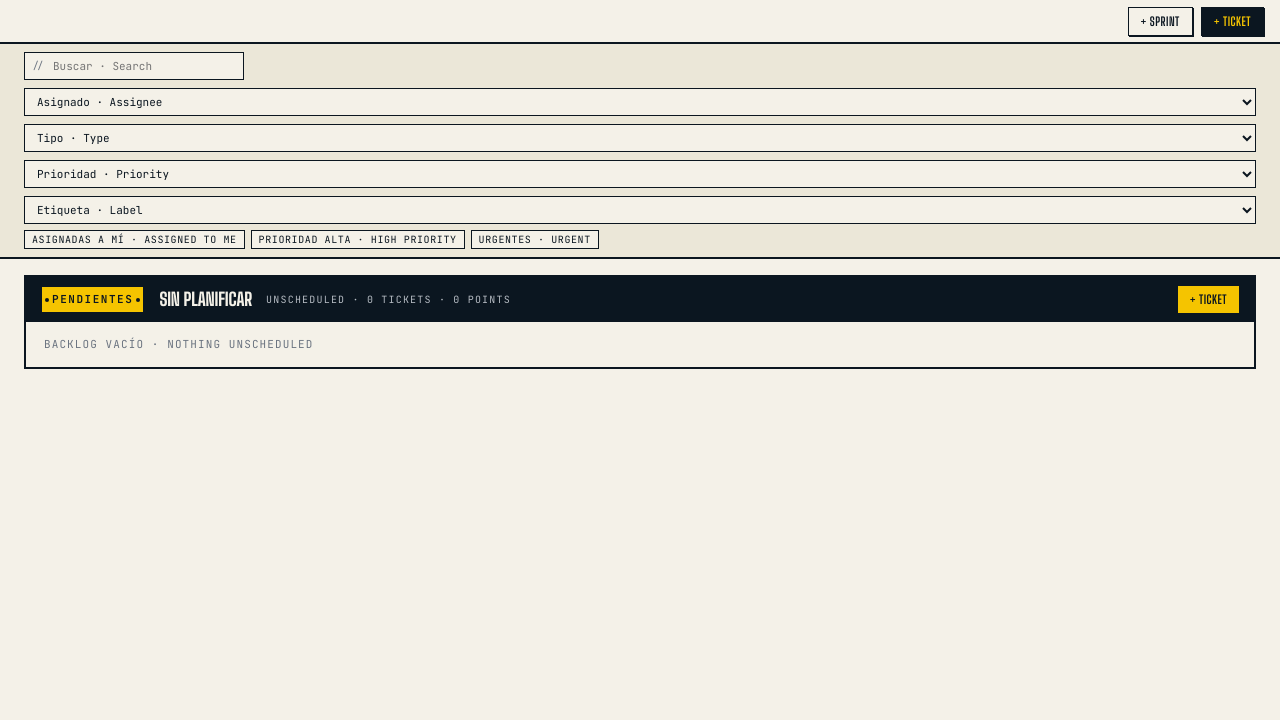
Test case: BacklogPage › closes the Create Sprint modal when the scrim is clicked
Check: the text "PENDIENTES" is shown, box [40, 285, 145, 314]
Click the button "+ Sprint" at (1160, 21), box [1128, 6, 1193, 36]
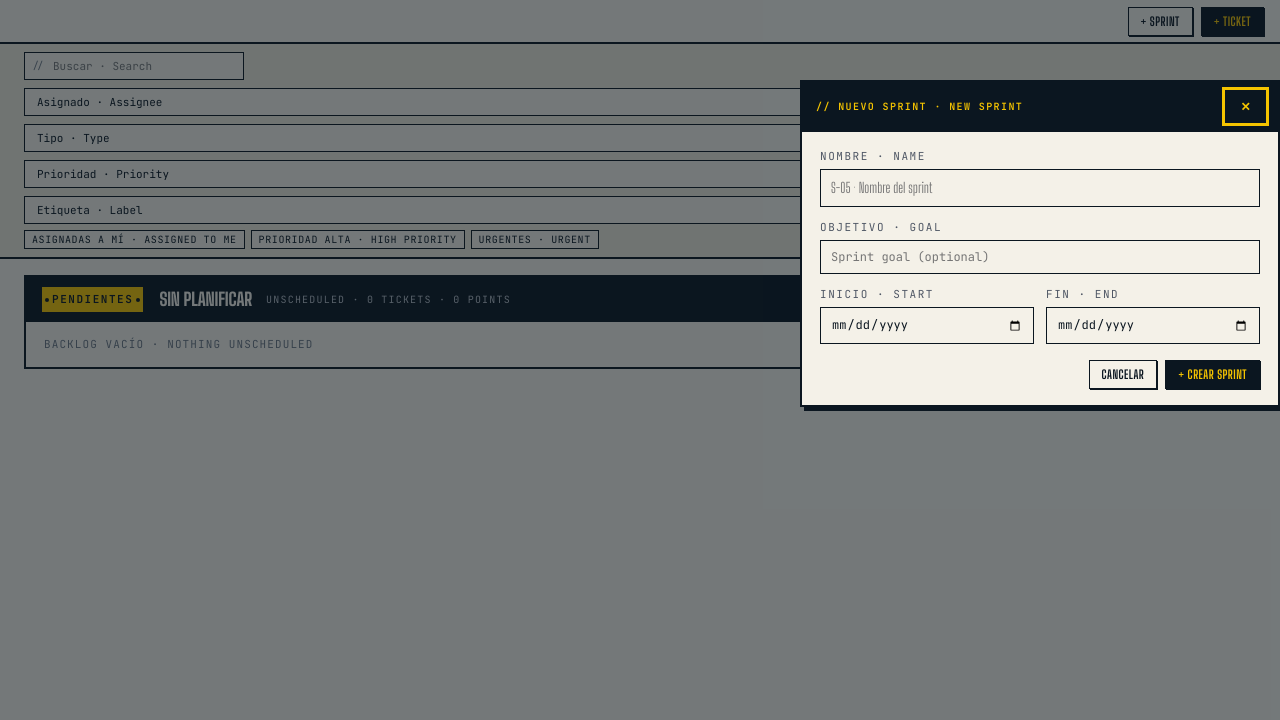
Check: the text "// NUEVO SPRINT · NEW SPRINT" is shown, box [816, 99, 1023, 114]
Click the element with class "gs-scrim" at (640, 360), box [0, 0, 1279, 719]
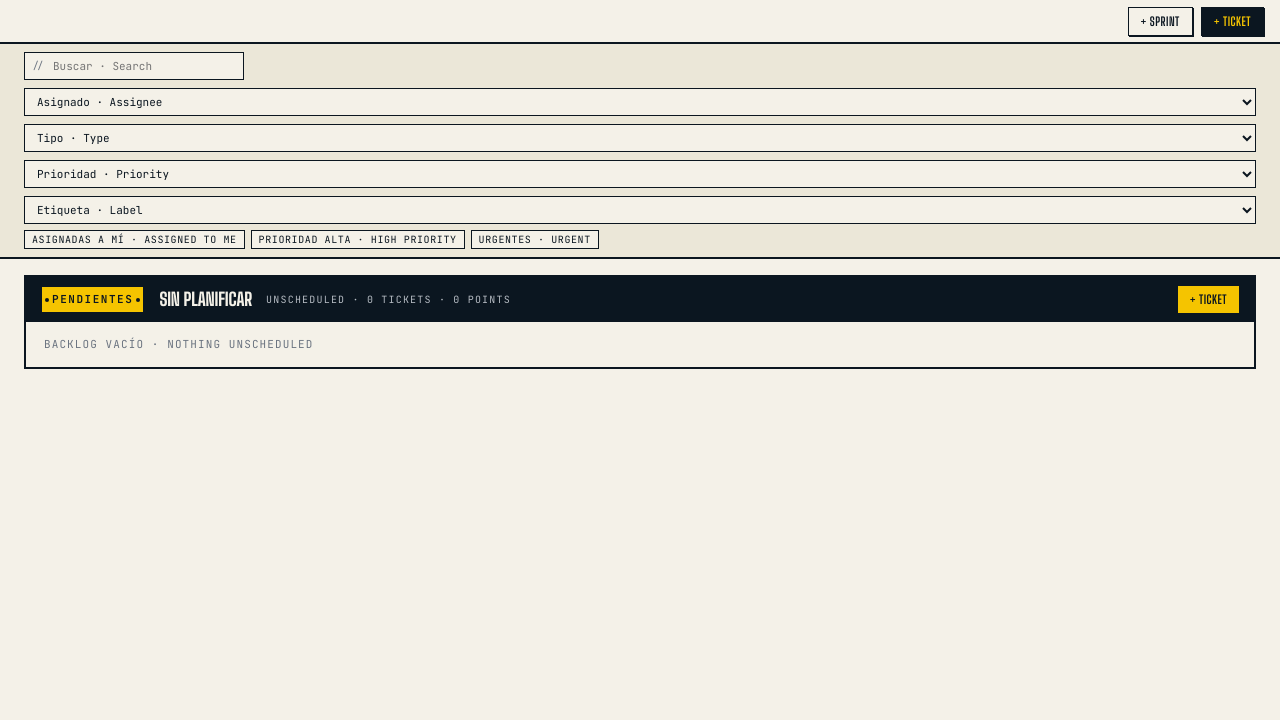
Check: the text "// NUEVO SPRINT · NEW SPRINT" is gone
